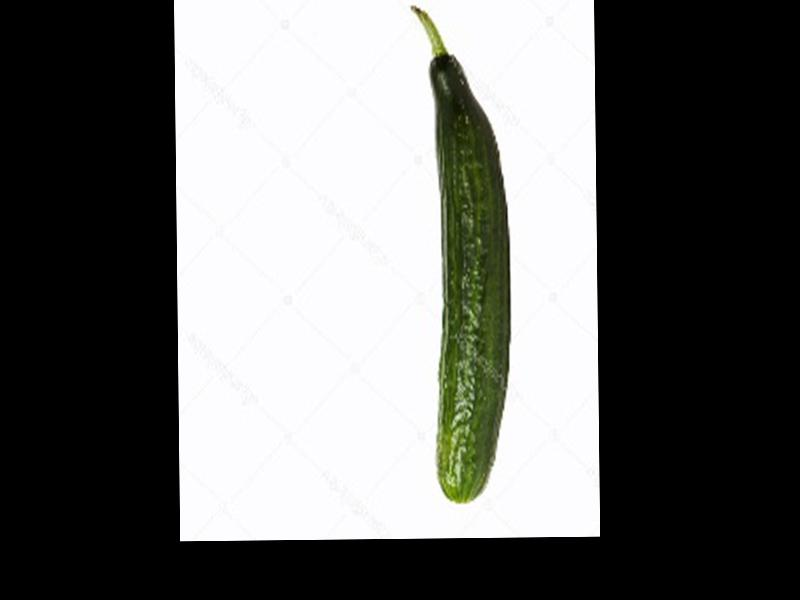Cucumber: (411, 1, 511, 501)
